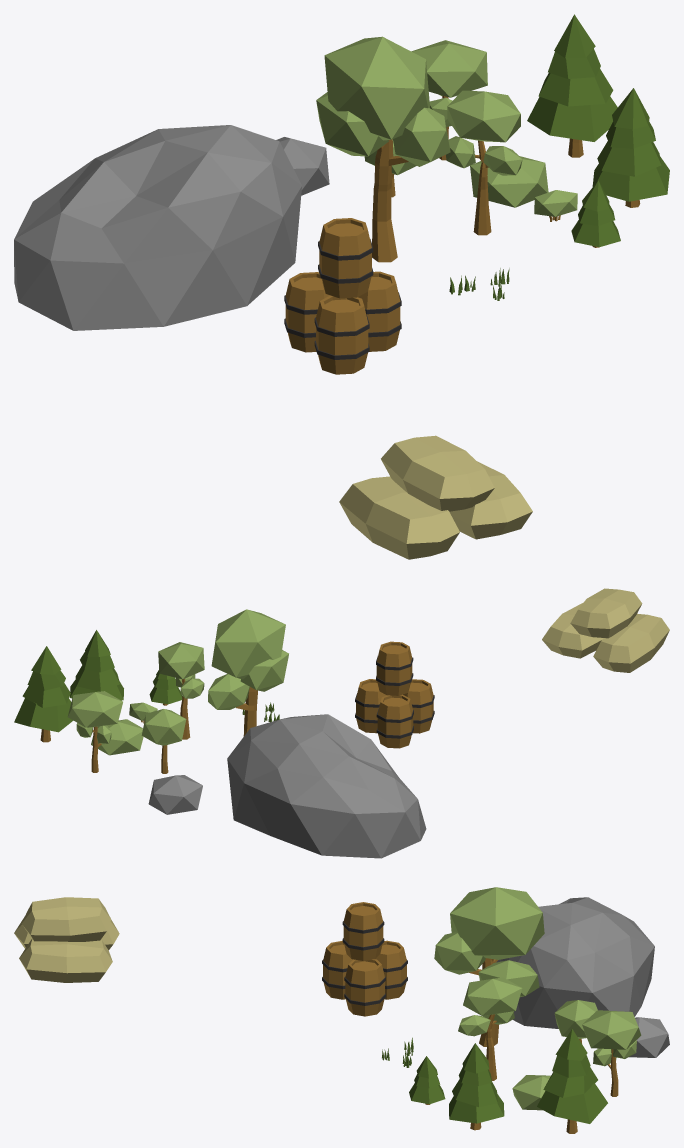
File: components.fbx
3 renders of one model, top to bottom at view 1: azimuth 30°, elevation 25°; view 2: azimuth 150°, elevation 25°; view 3: azimuth 270°, elevation 25°, orthographic. The views are drawn at different scales.
Parts seen in each view (by area): view 1: Icosphere.013, Cylinder.004, Cylinder.008, Cube.002, Cube.003, Cylinder.005, Cylinder.011, Cylinder.003, Cylinder.001, Cylinder.007, Cube.001, Cylinder (+5 smaller); view 2: Icosphere.013, Cylinder.004, Cylinder.008, Cube.002, Cube.003, Cylinder.007, Cylinder.005, Cylinder.011, Cylinder.003, Cylinder, Icosphere.012, Cube.001 (+5 smaller); view 3: Icosphere.013, Cylinder.004, Cylinder.008, Cube.003, Cube.001, Cylinder.005, Cylinder.011, Cylinder.007, Cylinder.003, Cylinder.002, Cylinder, Cylinder.001 (+5 smaller).
Boxes of the visible parts, x1,y1,x2,y2 form: Icosphere.013: (14,125,301,330); Cylinder.004: (316,36,450,262); Cylinder.008: (527,14,617,157); Cube.002: (339,476,459,559); Cube.003: (381,435,494,511); Cylinder.005: (446,90,522,235); Cylinder.011: (592,88,669,207); Cylinder.003: (318,218,373,298); Cylinder.001: (314,295,369,374); Cylinder.007: (411,40,487,160); Cube.001: (449,461,532,539); Cylinder: (284,272,329,352); Icosphere.013: (227,714,426,858); Cylinder.004: (208,609,288,736); Cylinder.008: (14,646,73,742); Cube.002: (593,613,669,672); Cube.003: (570,588,642,638); Cylinder.007: (67,691,122,772); Cylinder.005: (158,642,204,739); Cylinder.011: (70,630,123,700); Cylinder.003: (376,641,413,695); Cylinder: (376,694,413,748); Icosphere.012: (148,775,202,814); Cube.001: (542,603,603,658); Icosphere.013: (496,897,654,1028); Cylinder.004: (434,887,544,1046); Cylinder.008: (537,1029,607,1133); Cube.003: (21,897,111,941); Cube.001: (19,939,112,982); Cylinder.005: (458,977,522,1080); Cylinder.011: (449,1043,504,1130); Cylinder.007: (582,1010,641,1096); Cylinder.003: (342,902,384,960); Cylinder.002: (344,959,385,1016); Cylinder: (375,940,407,999); Cylinder.001: (322,940,353,999).
Size of the model in its own units: 653 by 253 by 860.
